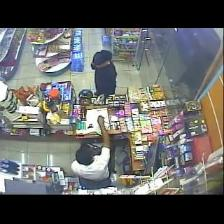person: (72, 117, 110, 188), (91, 50, 116, 97)
